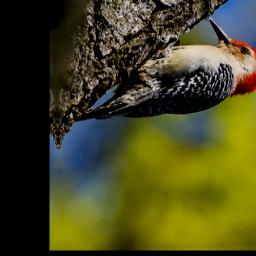Woodpecker: (73, 11, 256, 120)
